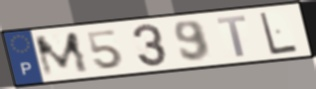3: (131, 23, 168, 68)
5: (84, 28, 125, 71)
9: (172, 19, 212, 63)
L: (257, 10, 300, 56)
M: (32, 30, 93, 79)
T: (214, 14, 249, 59)
